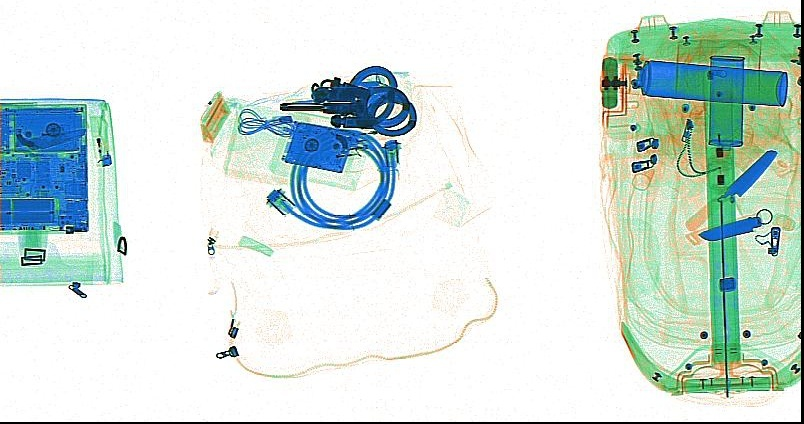handcuffs: (310, 64, 397, 126), (329, 84, 417, 136)
knife: (684, 148, 777, 231), (1, 128, 86, 163), (694, 211, 762, 241), (279, 98, 327, 111)
lighter: (87, 113, 111, 167)
pressure: (620, 58, 788, 105)
zippooil: (707, 54, 744, 150)
